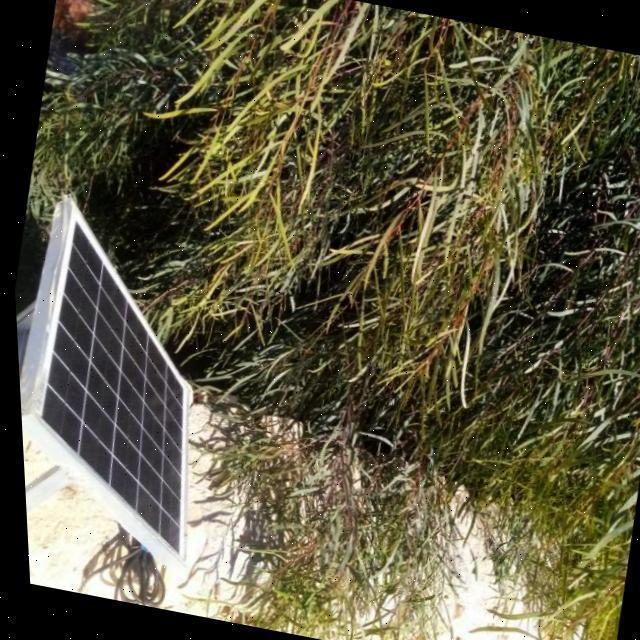Normal Solar Panel: (8, 198, 244, 568)
